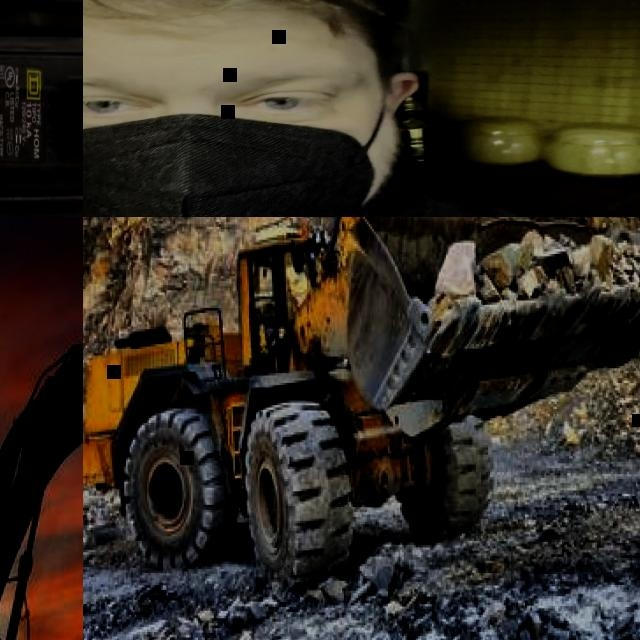Mask: (83, 84, 396, 217)
NO-Hardhat: (83, 0, 400, 51)
Person: (83, 0, 640, 217)
machinery: (83, 217, 640, 599), (0, 218, 83, 640)
